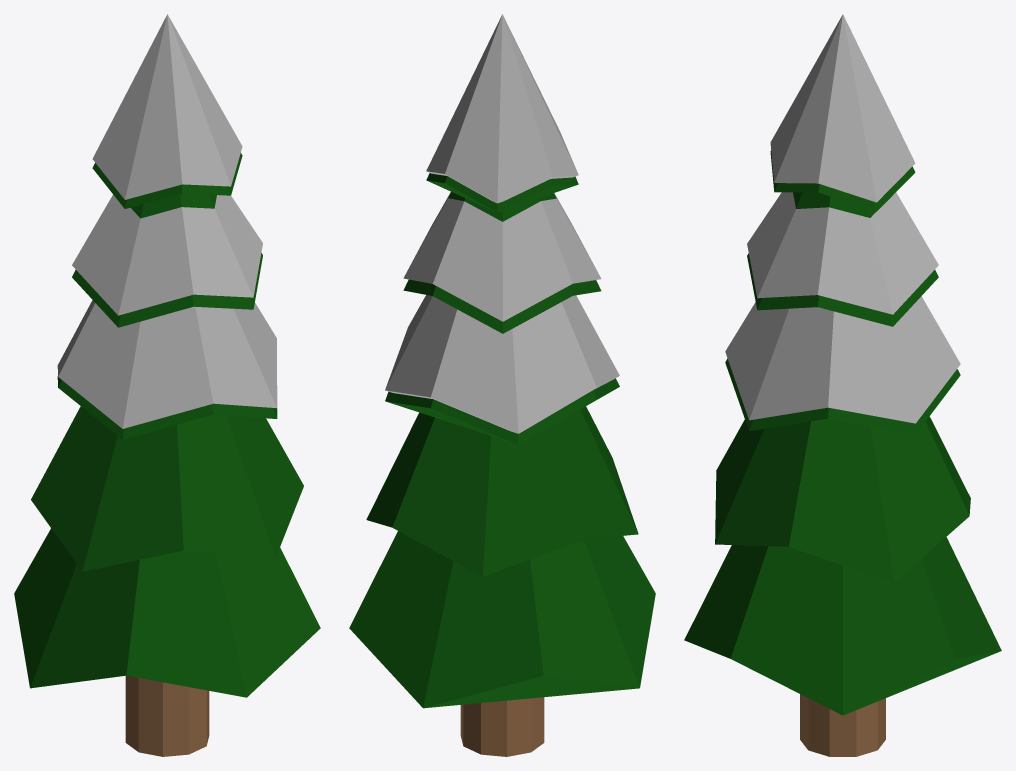
Rendered from Fir_2 Winter.fbx.
The picture shows the model from 3 angles, left to right: view 1: azimuth 30°, elevation 25°; view 2: azimuth 150°, elevation 25°; view 3: azimuth 270°, elevation 25°; orthographic projection.
Parts seen in each view (by area): view 1: Fir2Winter_mesh; view 2: Fir2Winter_mesh; view 3: Fir2Winter_mesh.
Boxes of the visible parts, x1,y1,x2,y2 form: Fir2Winter_mesh: (14,14,320,756); Fir2Winter_mesh: (349,14,655,756); Fir2Winter_mesh: (684,14,1001,756).
Size of the model in its own units: 415 by 1045 by 415.
